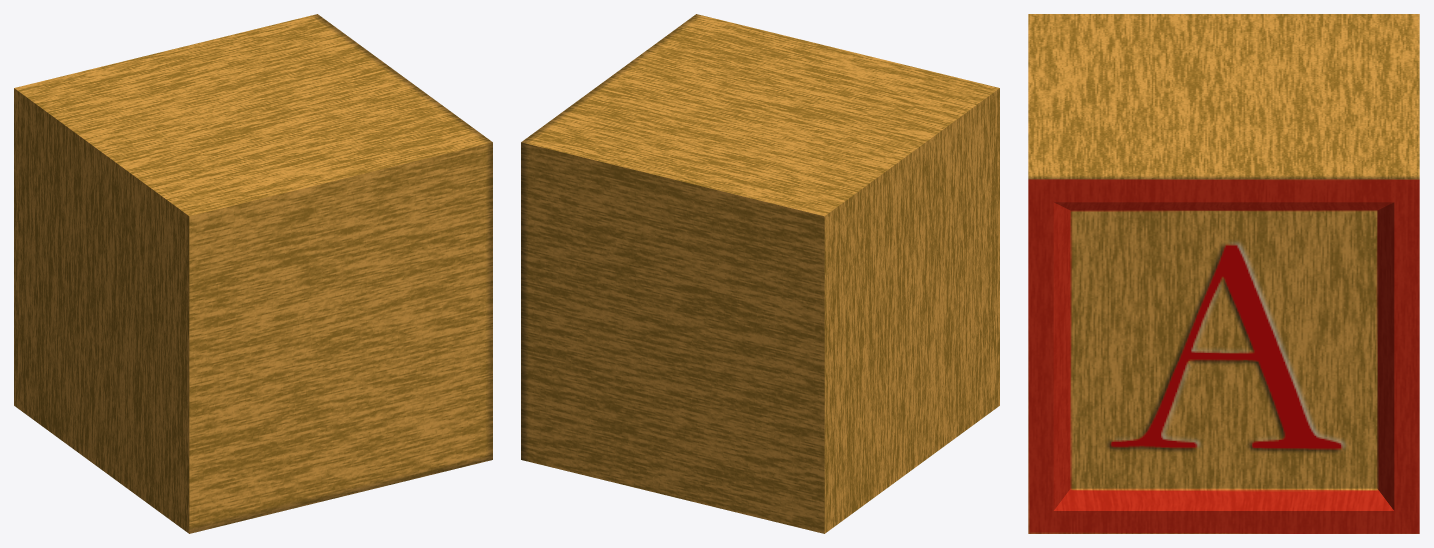
Rendered from Letter Block.fbx.
3 views of the same model, side by side, from view 1: azimuth 30°, elevation 25°; view 2: azimuth 150°, elevation 25°; view 3: azimuth 270°, elevation 25° (orthographic). The views are drawn at different scales.
Parts seen in each view (by area): view 1: Letter_Cube; view 2: Letter_Cube; view 3: Letter_Cube.
Part boxes in pixels (x1,y1,x2,y2): Letter_Cube: (14, 14, 492, 533); Letter_Cube: (521, 14, 999, 533); Letter_Cube: (1028, 14, 1419, 533).
Bounding box in the file's own units: 5.06 × 5.06 × 5.06.
Materials: 1 (1 with a texture image).
